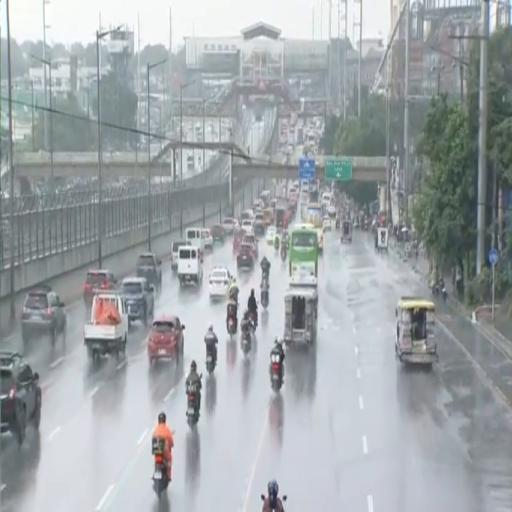bus: (289, 223, 318, 285), (304, 203, 323, 252), (304, 203, 323, 229)
car: (0, 351, 41, 445), (21, 285, 66, 345), (148, 315, 184, 364), (122, 278, 154, 325), (84, 269, 117, 308), (136, 252, 161, 286), (209, 267, 233, 298), (171, 239, 190, 270), (237, 244, 255, 269), (242, 233, 258, 258), (210, 224, 226, 243), (202, 229, 213, 250), (254, 212, 264, 234), (222, 218, 235, 234), (266, 227, 276, 245), (241, 219, 253, 233), (316, 230, 323, 252), (327, 203, 336, 217), (253, 199, 262, 213), (241, 210, 253, 220), (323, 217, 330, 231)
motorcycle: (152, 438, 169, 500), (187, 390, 199, 428), (270, 354, 282, 391), (240, 330, 252, 357), (206, 346, 217, 374), (261, 280, 269, 309), (227, 315, 237, 338), (250, 311, 257, 332), (431, 282, 440, 298), (280, 244, 287, 261), (274, 237, 280, 251), (442, 285, 446, 302), (280, 495, 287, 503)
truck: (84, 293, 128, 360)
